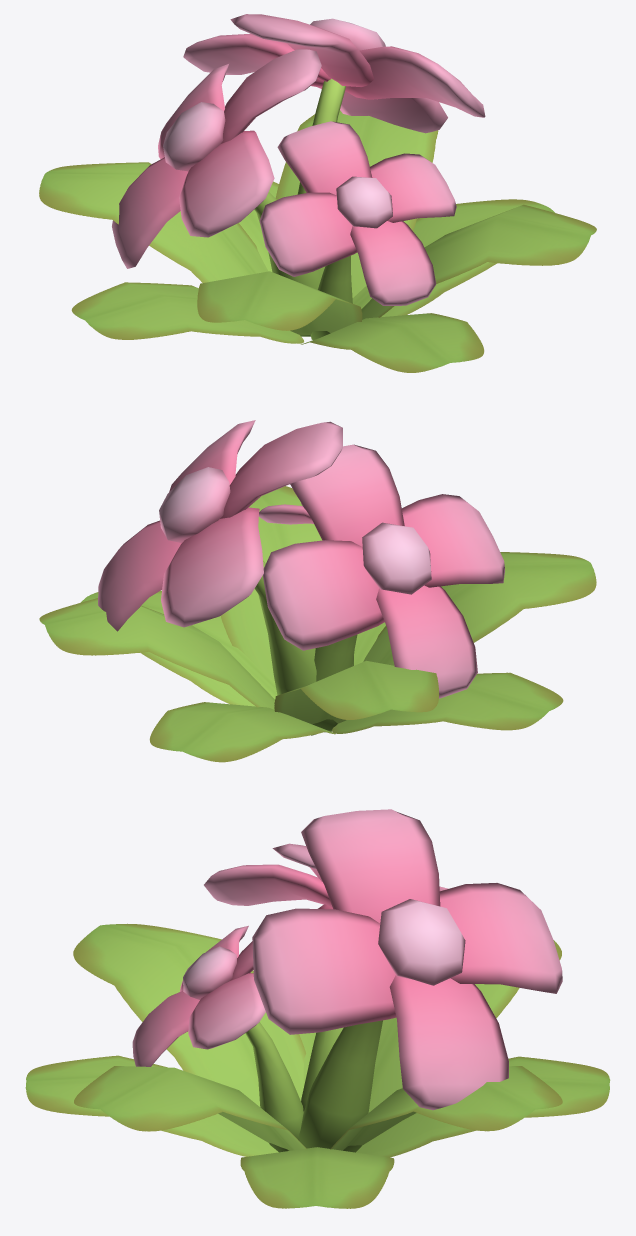
The model's file is mct_foliage_flower03.fbx.
3 renders of one model, top to bottom at view 1: azimuth 30°, elevation 25°; view 2: azimuth 150°, elevation 25°; view 3: azimuth 270°, elevation 25°, orthographic. The views are drawn at different scales.
Visible parts, largest first — view 1: mct_foliage_flower_03; view 2: mct_foliage_flower_03; view 3: mct_foliage_flower_03.
Boxes of the visible parts, <box> form: mct_foliage_flower_03: <box>39,14,596,372</box>; mct_foliage_flower_03: <box>39,420,596,762</box>; mct_foliage_flower_03: <box>25,809,610,1208</box>.
Bounding box in the file's own units: 71.17 × 42.46 × 71.17.
